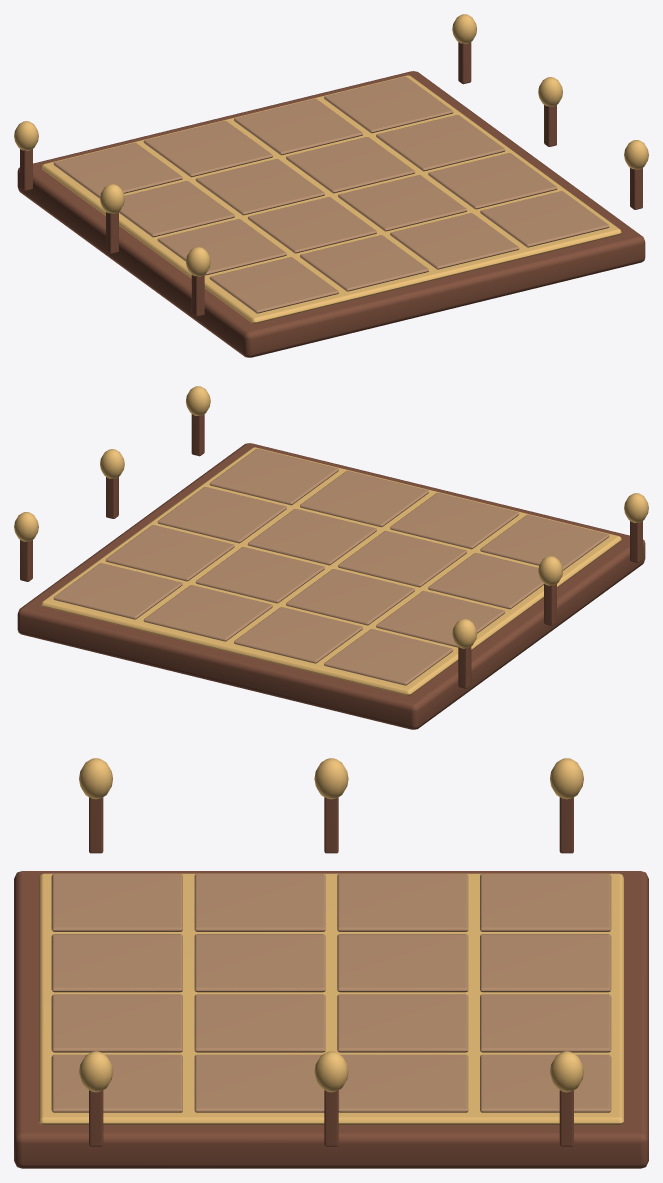
File: board.glb
3 renders of one model, top to bottom at view 1: azimuth 30°, elevation 25°; view 2: azimuth 150°, elevation 25°; view 3: azimuth 270°, elevation 25°, orthographic. The views are drawn at different scales.
Parts seen in each view (by area): view 1: board-foundation, board-surface, cell-0-0, cell-0-2, cell-0-3, cell-3-1, cell-0-1, cell-1-2, cell-1-3, cell-2-3, cell-3-2, cell-3-3 (+18 smaller); view 2: board-foundation, board-surface, cell-3-0, cell-0-1, cell-3-2, cell-3-3, cell-0-2, cell-0-3, cell-1-3, cell-2-2, cell-2-3, cell-3-1 (+18 smaller); view 3: board-foundation, board-surface, cell-1-2, cell-2-2, cell-0-1, cell-1-1, cell-2-1, cell-3-1, cell-0-2, cell-3-2, cell-1-0, cell-2-0 (+18 smaller).
Part boxes in pixels (x1,y1,x2,y2): board-foundation: [17, 71, 645, 357]; board-surface: [41, 75, 621, 323]; cell-0-0: [209, 257, 338, 313]; cell-0-2: [390, 213, 519, 269]; cell-0-3: [480, 191, 609, 247]; cell-3-1: [143, 120, 272, 177]; cell-0-1: [300, 235, 428, 291]; cell-1-2: [338, 175, 467, 231]; cell-1-3: [428, 153, 557, 209]; cell-2-3: [376, 115, 505, 171]; cell-3-2: [234, 98, 362, 155]; cell-3-3: [324, 76, 453, 133]; board-foundation: [17, 443, 645, 729]; board-surface: [41, 447, 621, 695]; cell-3-0: [324, 629, 453, 685]; cell-0-1: [390, 492, 519, 549]; cell-3-2: [143, 585, 272, 641]; cell-3-3: [53, 563, 182, 619]; cell-0-2: [300, 470, 428, 527]; cell-0-3: [209, 448, 338, 505]; cell-1-3: [157, 487, 286, 543]; cell-2-2: [195, 547, 324, 603]; cell-2-3: [105, 525, 234, 581]; cell-3-1: [234, 607, 362, 663]; board-foundation: [14, 871, 648, 1168]; board-surface: [39, 873, 623, 1124]; cell-1-2: [194, 994, 325, 1052]; cell-2-2: [337, 994, 468, 1052]; cell-0-1: [51, 934, 182, 992]; cell-1-1: [194, 934, 325, 992]; cell-2-1: [337, 934, 468, 992]; cell-3-1: [480, 934, 611, 992]; cell-0-2: [51, 994, 182, 1052]; cell-3-2: [480, 994, 611, 1052]; cell-1-0: [194, 874, 325, 931]; cell-2-0: [337, 874, 468, 931].
Size of the model in its own units: 5.1 by 1.02 by 4.45.
